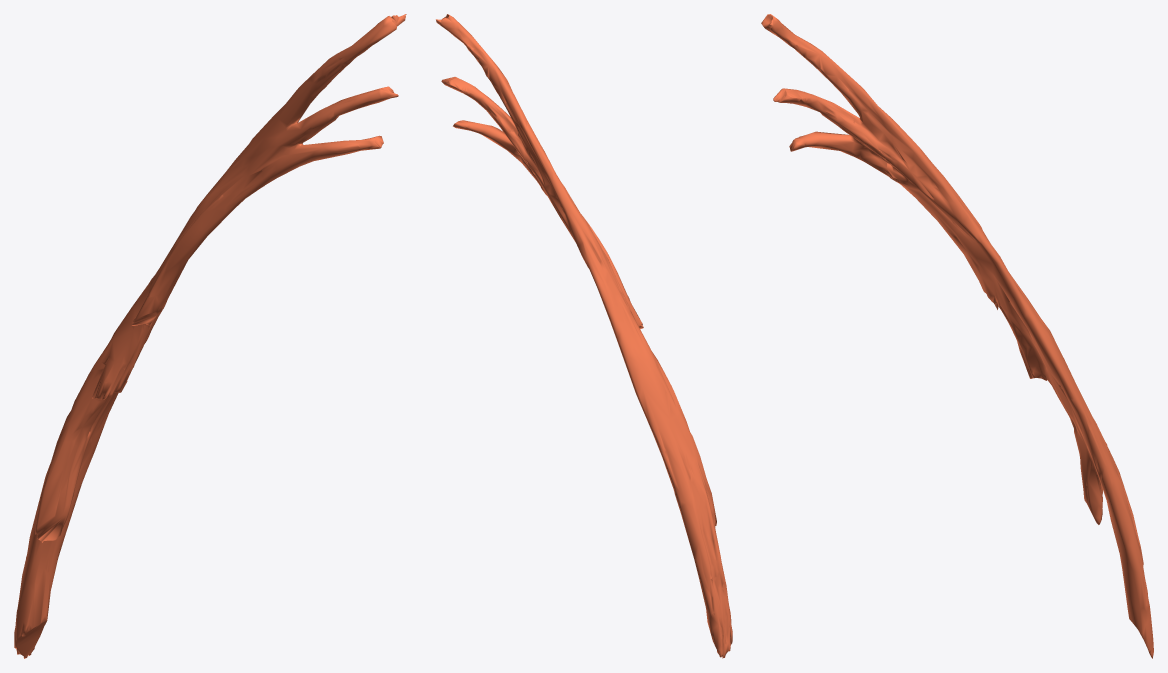
File: Iliocostalis_colli_muscle.r_Generated_Mesh_From_X3D.474.glb
The picture shows the model from 3 angles, left to right: view 1: azimuth 30°, elevation 25°; view 2: azimuth 210°, elevation 25°; view 3: azimuth 270°, elevation 25°; orthographic projection. The views are drawn at different scales.
Parts seen in each view (by area): view 1: Iliocostalis_colli_muscle.r_Generated_Mesh_From_X3D.474; view 2: Iliocostalis_colli_muscle.r_Generated_Mesh_From_X3D.474; view 3: Iliocostalis_colli_muscle.r_Generated_Mesh_From_X3D.474.
Boxes of the visible parts, x1,y1,x2,y2 form: Iliocostalis_colli_muscle.r_Generated_Mesh_From_X3D.474: [14, 14, 406, 658]; Iliocostalis_colli_muscle.r_Generated_Mesh_From_X3D.474: [436, 14, 732, 658]; Iliocostalis_colli_muscle.r_Generated_Mesh_From_X3D.474: [761, 14, 1153, 658].
Size of the model in its own units: 0.0505 by 0.1765 by 0.087.
